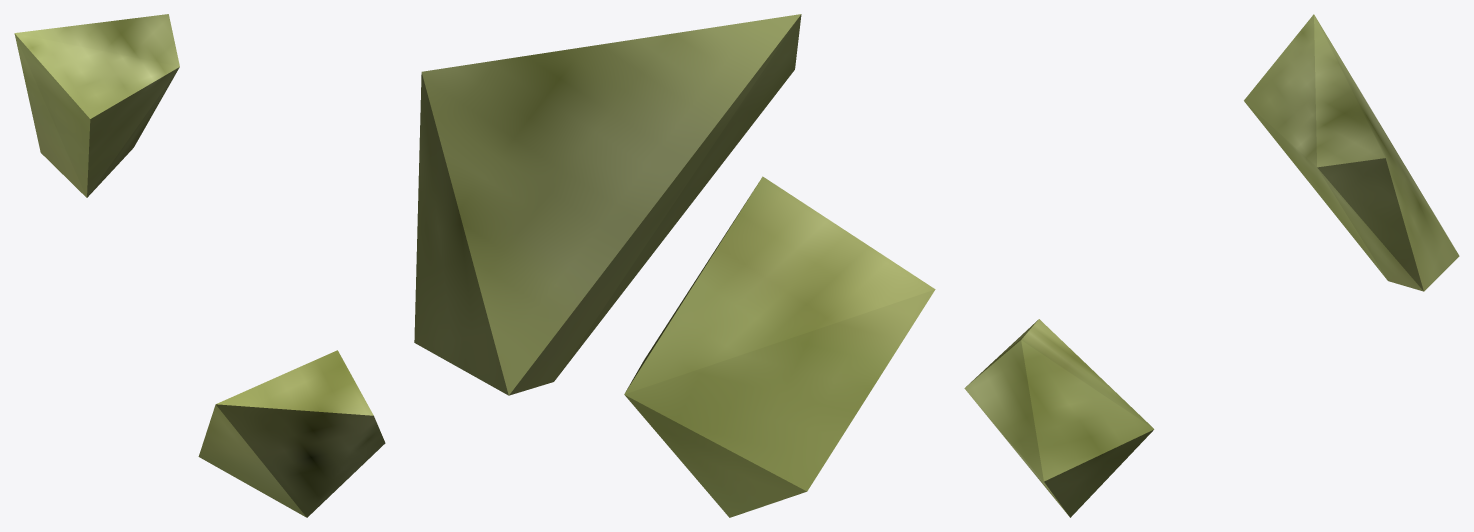
3 views of the same model, side by side, from view 1: azimuth 30°, elevation 25°; view 2: azimuth 150°, elevation 25°; view 3: azimuth 270°, elevation 25° (orthographic). The views are drawn at different scales.
Bounding box in the file's own units: 0.2973 × 0.5302 × 0.5612.
Materials: 1 (1 with a texture image).
